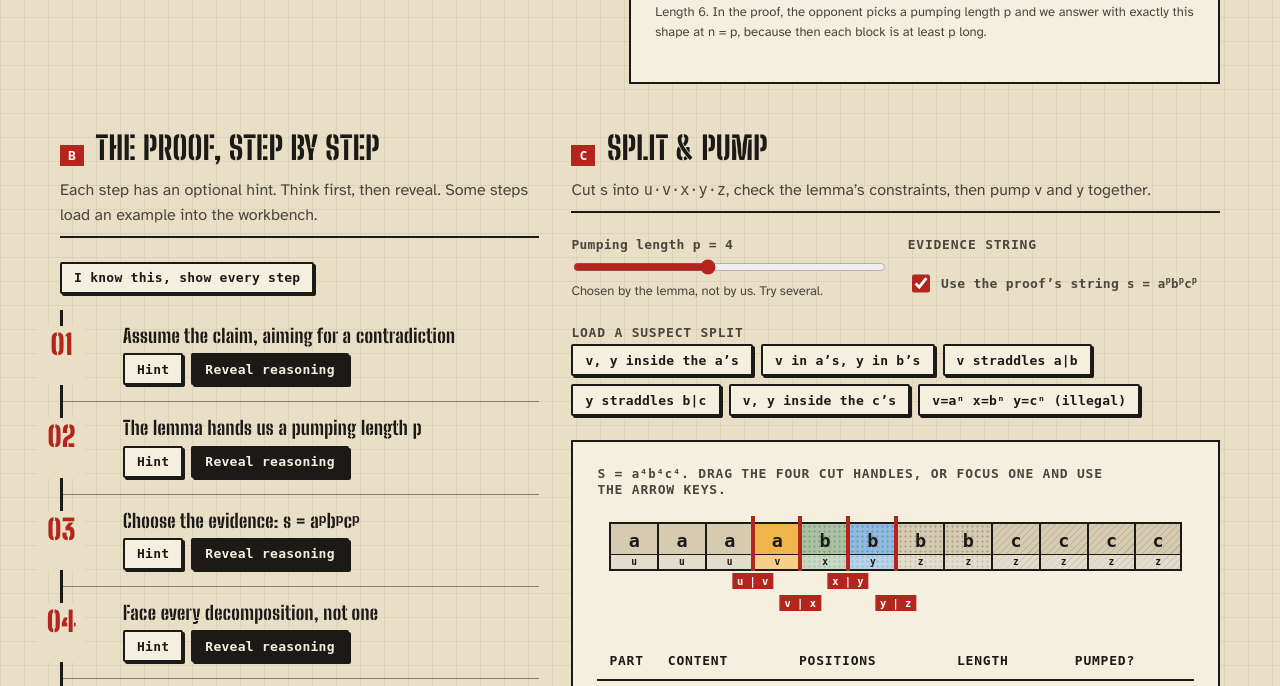
Test case: Pumping Paradox page › straddling preset is refuted in attack mode with an order violation
The image size is (1280, 686).
(page scrolled)
Step 1. Click the button "v straddles a|b" → (1017, 360), box [943,344,1092,376]
(page scrolled)
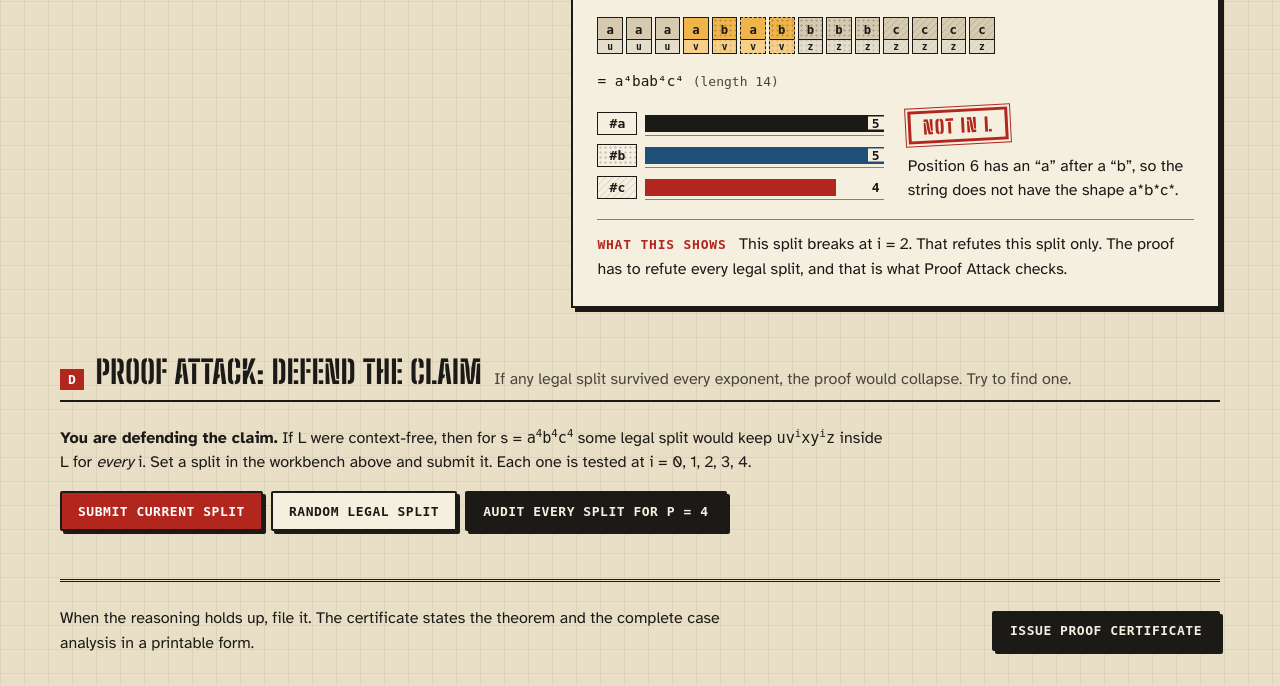
Step 2. Click the button "Submit current split" → (161, 511), box [60,491,263,531]
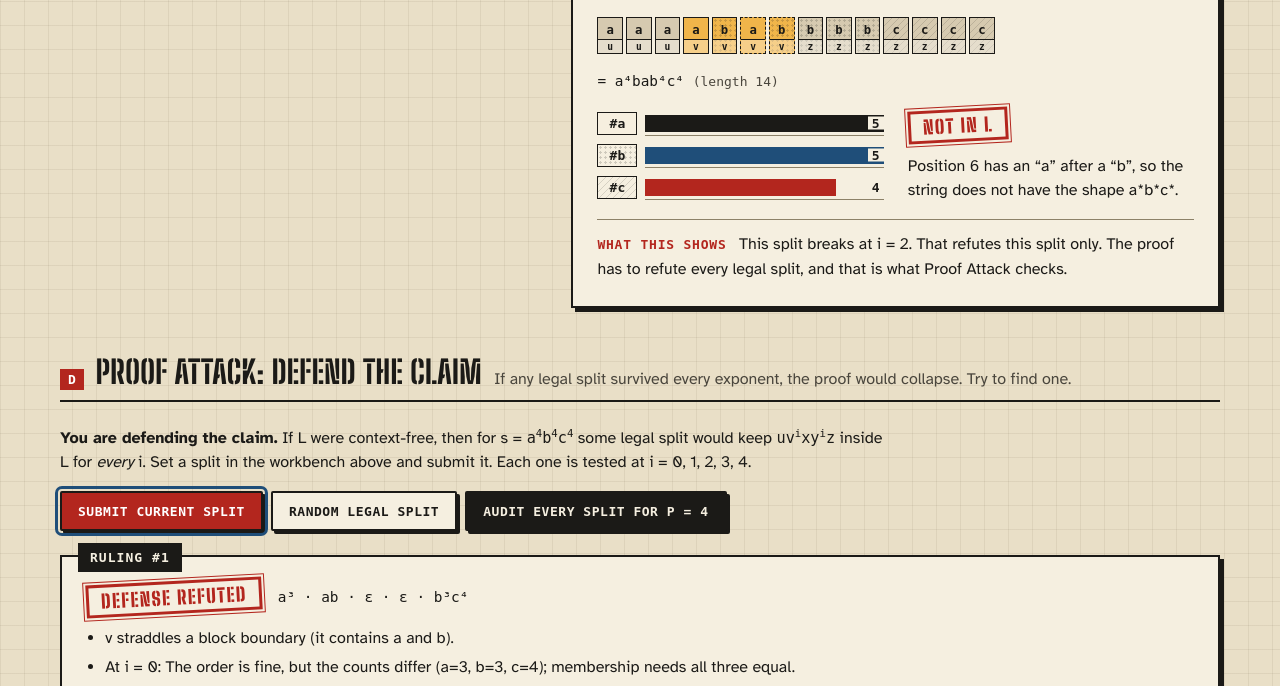
Expected: the text "defense refuted" is shown, [85,576,263,619]
Expected: the list item "v straddles a block boundary (it contains a and b)." is shown, [105,628,454,648]
